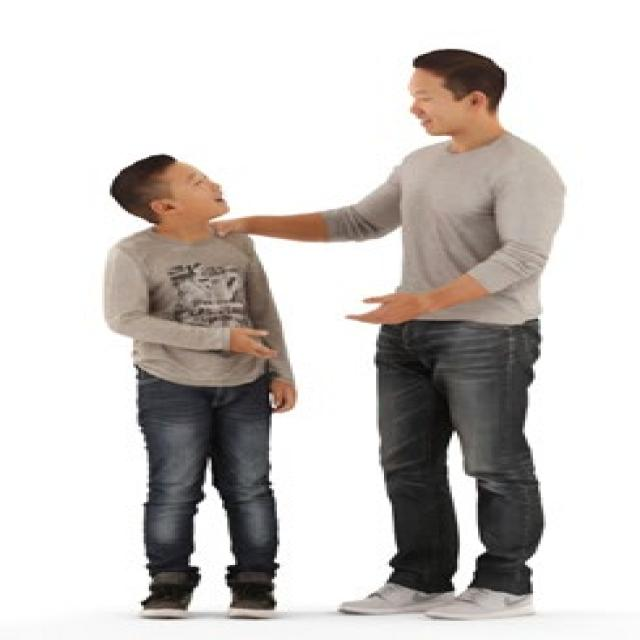standing: (327, 45, 568, 621), (96, 152, 302, 624)
